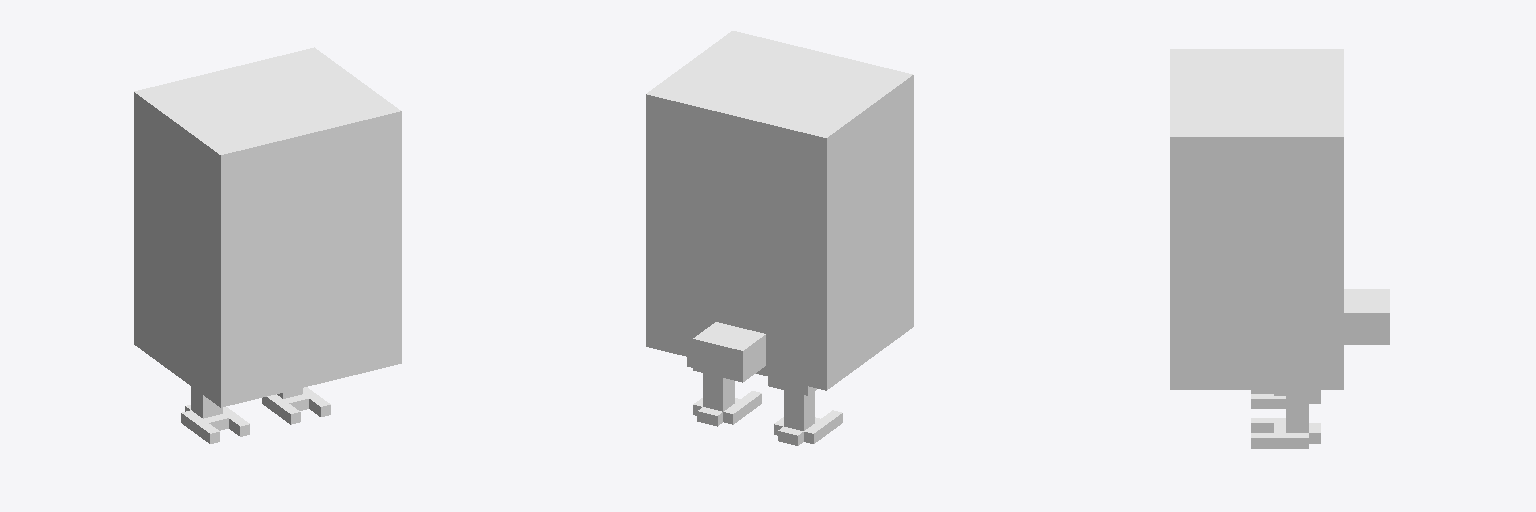
The model's file is sova-2.obj.
3 renders of one model, left to right at view 1: azimuth 30°, elevation 25°; view 2: azimuth 150°, elevation 25°; view 3: azimuth 270°, elevation 25°, orthographic.
Parts seen in each view (by area): view 1: object 1; view 2: object 1; view 3: object 1.
Part boxes in pixels (x1,y1,x2,y2): object 1: (134, 47, 401, 443); object 1: (646, 31, 913, 445); object 1: (1170, 49, 1389, 448).
Size of the model in its own units: 1.8 by 3.1 by 1.9.